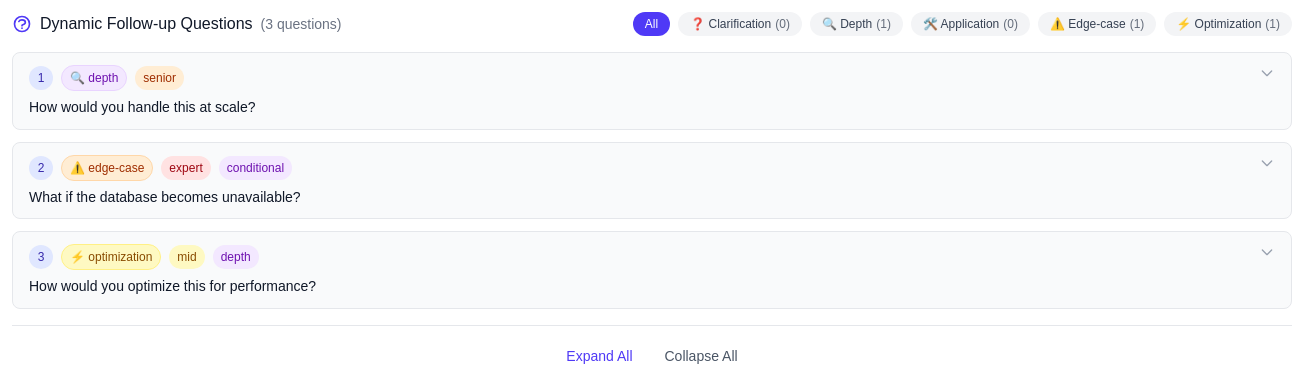
Scenario: FollowUpQuestions › filters questions by category
This screenshot has width=1304, height=381.
Click on depth category filter - use the button element
Click the button "🔍 Depth(1)": coordinates (856, 24) [810,12,903,36]
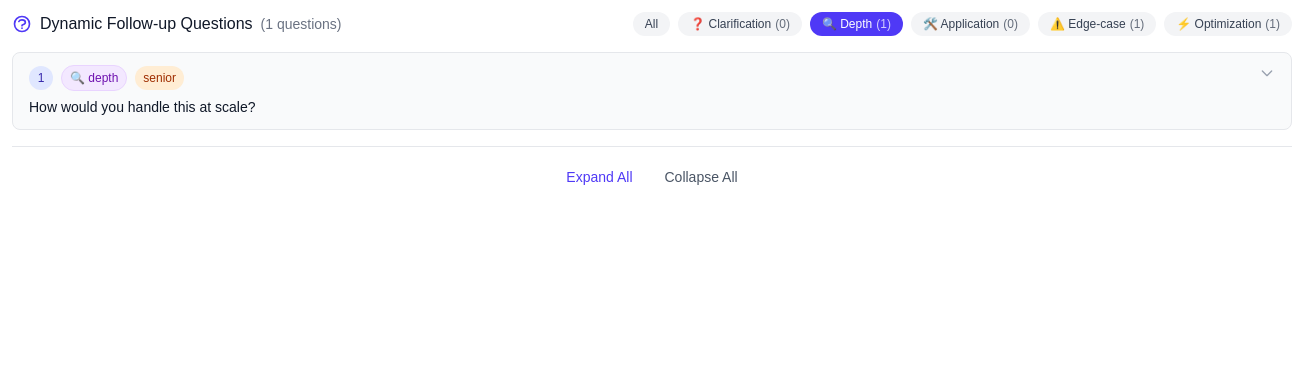
Expected: the text "How would you handle this at scale?" is shown, [29,99,256,115]
Expected: the text "(1 questions)" is shown, [260,14,342,34]
